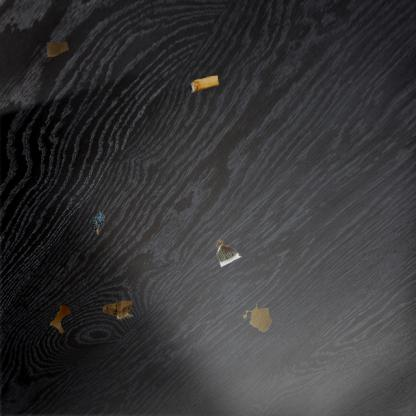dirty: (214, 238, 242, 269), (100, 299, 134, 322), (188, 74, 220, 96), (45, 40, 70, 58), (92, 210, 104, 235)
liquid: (242, 303, 273, 333), (49, 304, 72, 336)
